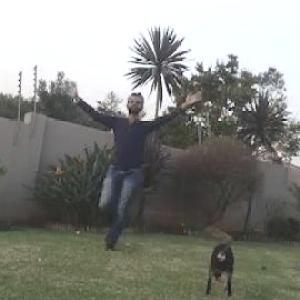takeoff: (73, 91, 189, 232)
